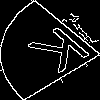K: (25, 25, 100, 81)
